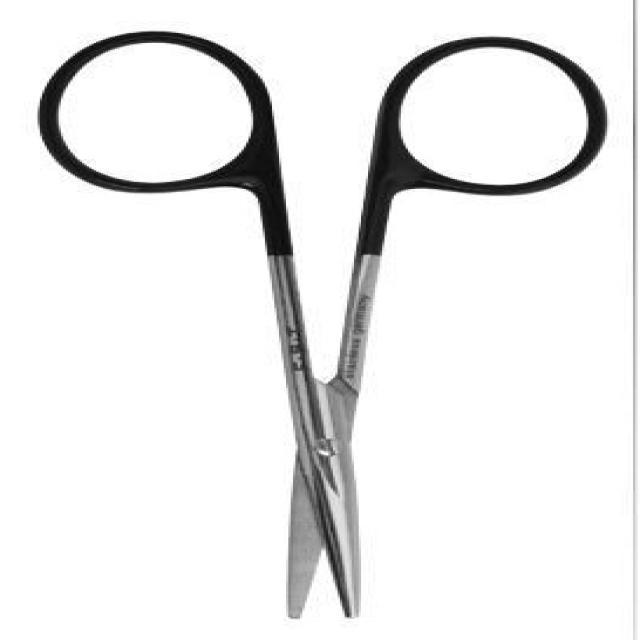Iris: (33, 29, 616, 622)
